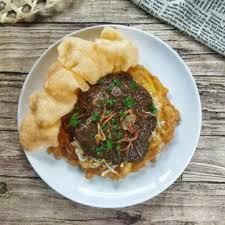Tahu telor: (59, 63, 181, 182)
